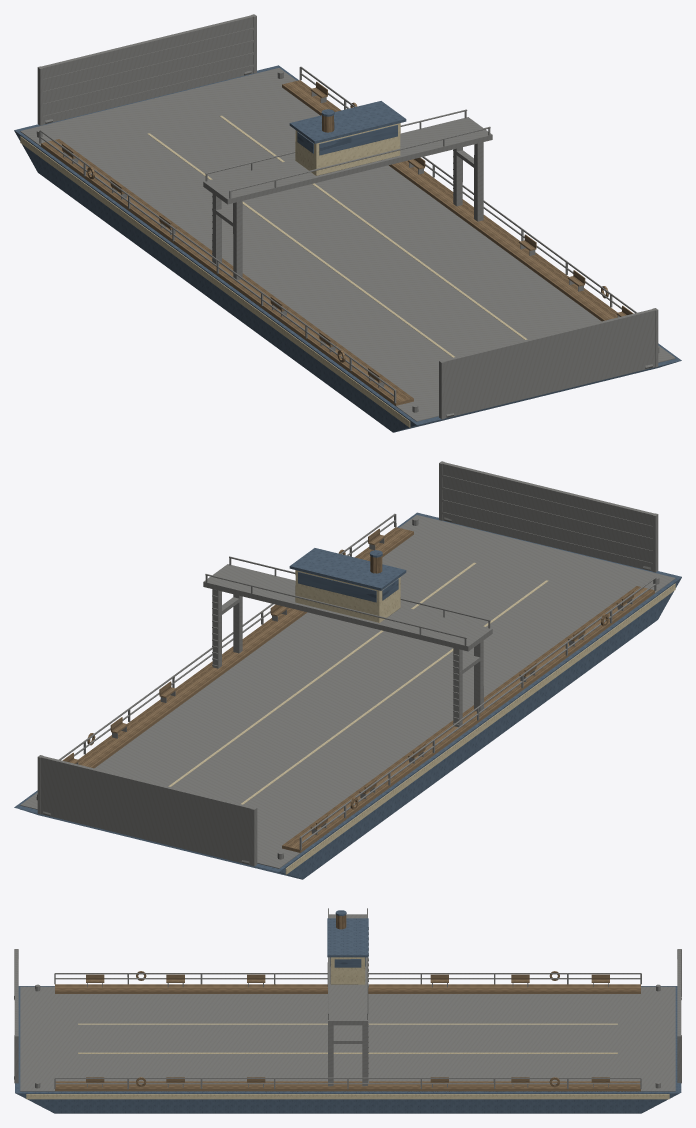
File: public_ferry.glb
3 views of the same model, one above another, from view 1: azimuth 30°, elevation 25°; view 2: azimuth 150°, elevation 25°; view 3: azimuth 270°, elevation 25° (orthographic). The views are drawn at different scales.
Parts seen in each view (by area): view 1: PublicFerry, Ramp2, Ramp; view 2: PublicFerry, Ramp, Ramp2; view 3: PublicFerry, Ramp2, Ramp.
Part boxes in pixels (x1,y1,x2,y2): PublicFerry: (14,65,681,432); Ramp2: (439,308,658,419); Ramp: (37,14,256,125); PublicFerry: (14,512,681,879); Ramp: (37,755,257,866); Ramp2: (439,461,658,572); PublicFerry: (15,908,681,1113); Ramp2: (14,949,18,1083); Ramp: (677,949,681,1083).
Bounding box in the file's own units: 12.37 × 7.44 × 32.55.
4 materials, 4 textured.
